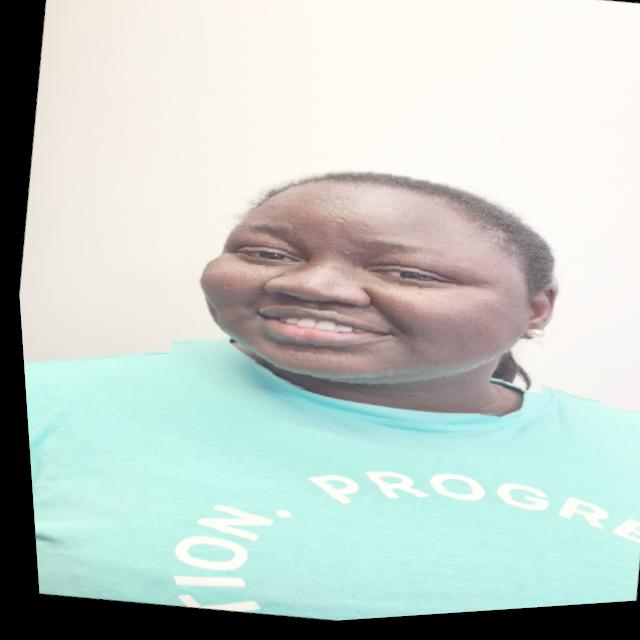happy: (152, 123, 579, 446)
